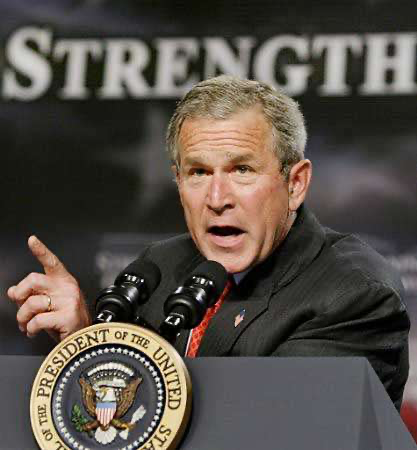Face: (170, 126, 298, 276)
